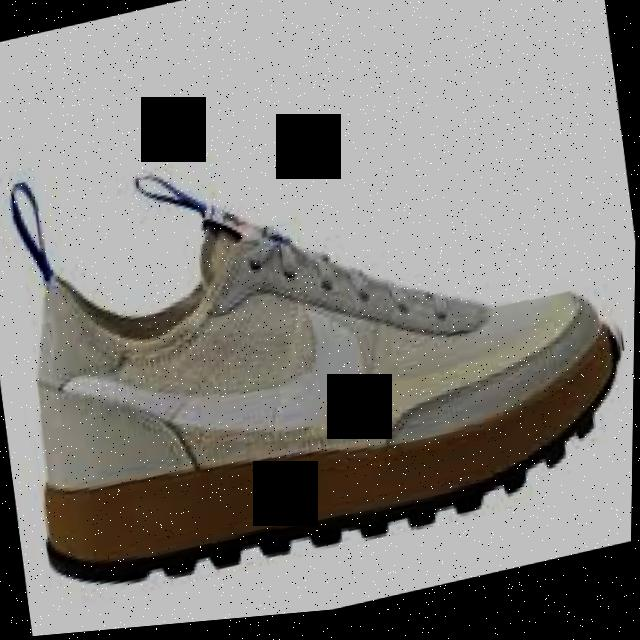shoe: (0, 57, 639, 618)
